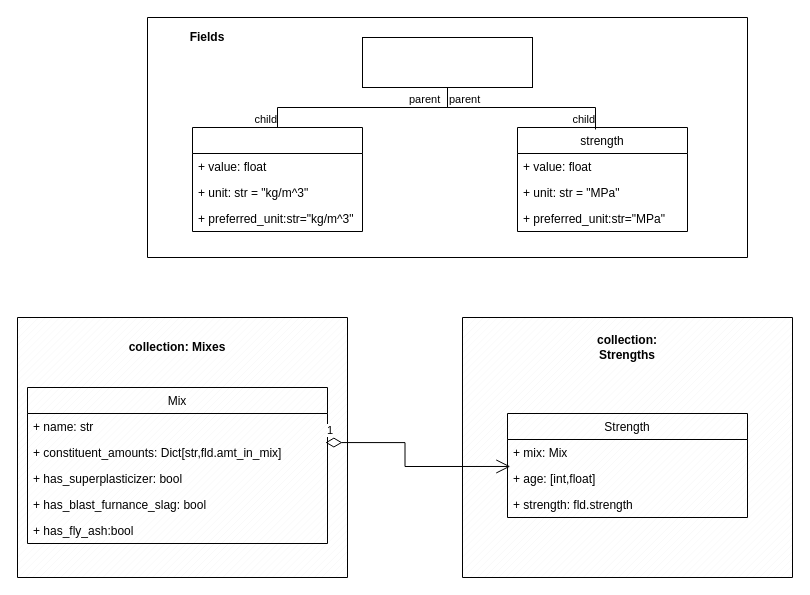
Image size: 810x595. Some labels were removed from this diagram. The shapes that lost their labels are listed below. From the top down, each one's box as (x1, y1, x2, y2) in pixels, then its label:
(362, 36, 532, 88): PhysicalQty
(192, 126, 362, 232): amt_in_mix
